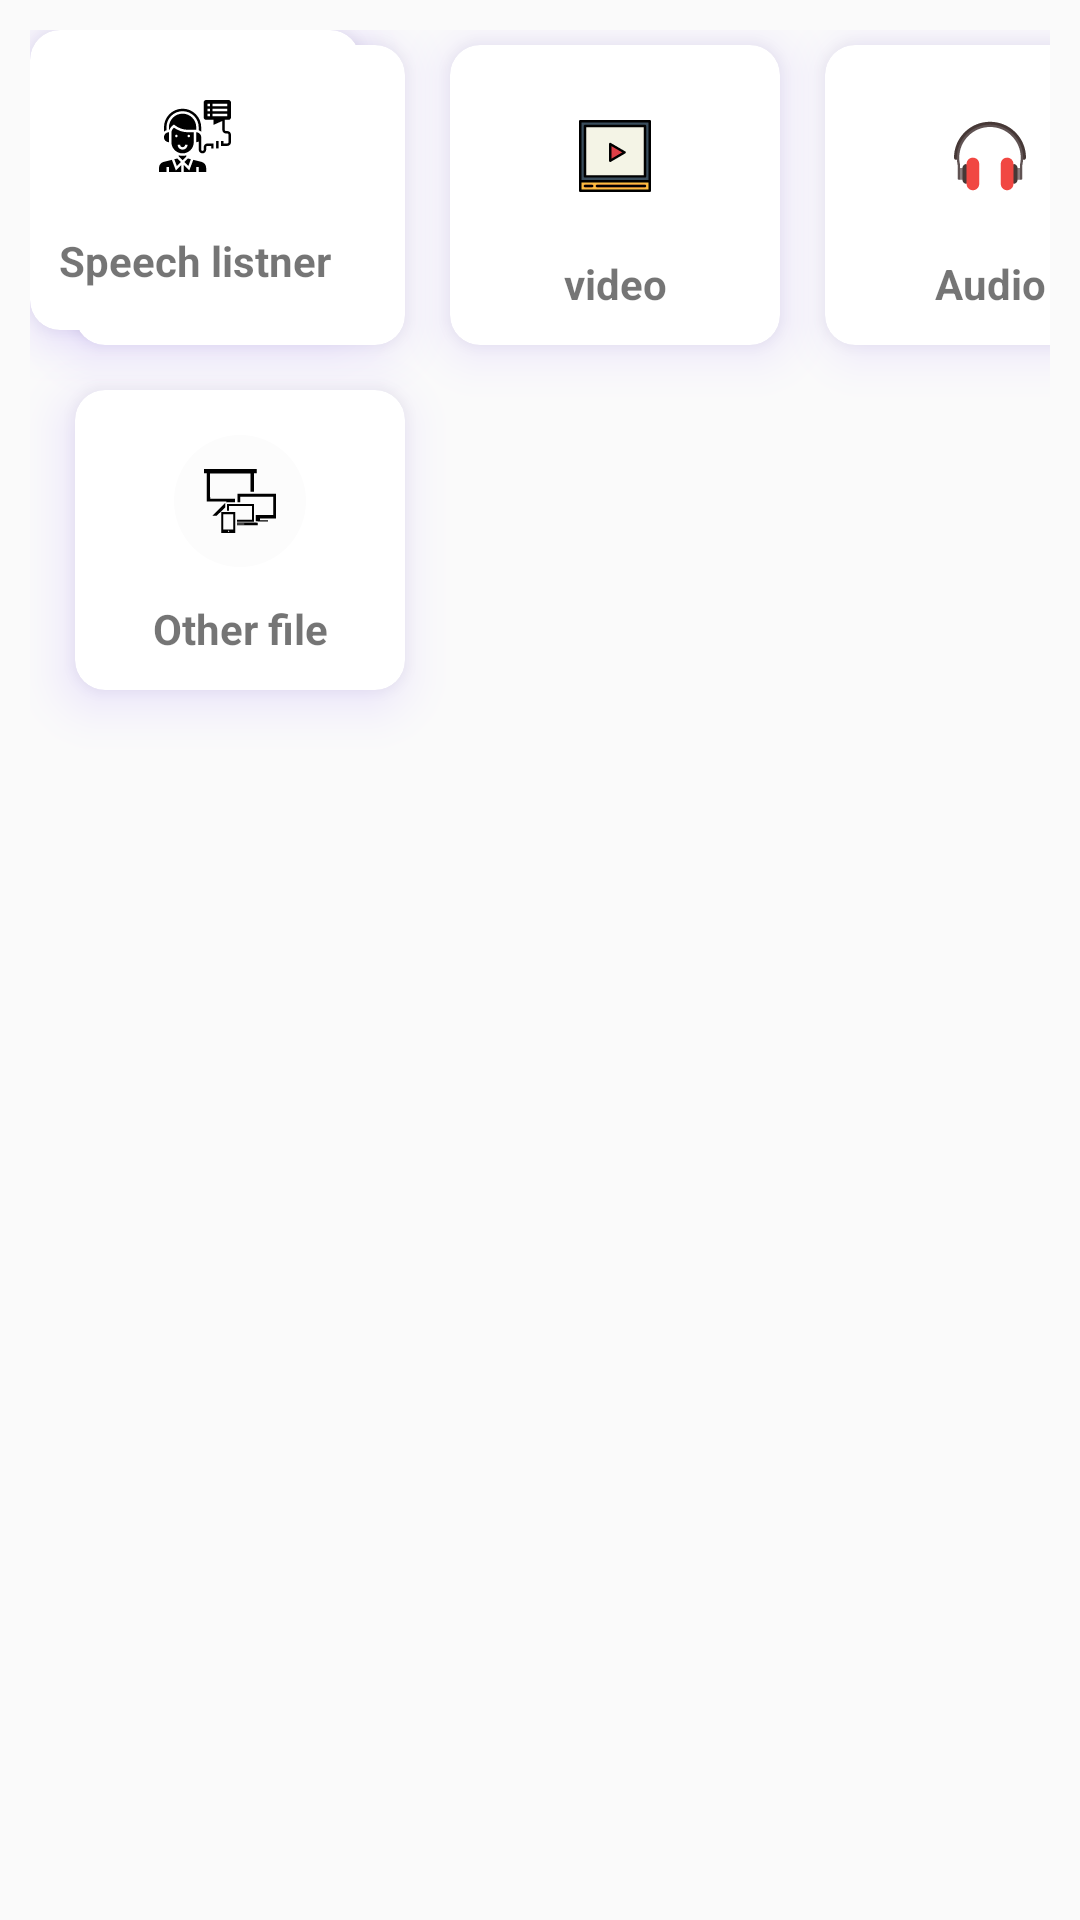

Point at icon controls on the screen. Image size 1080w x 1920h, points as [x,y].
music player: [990,156]
